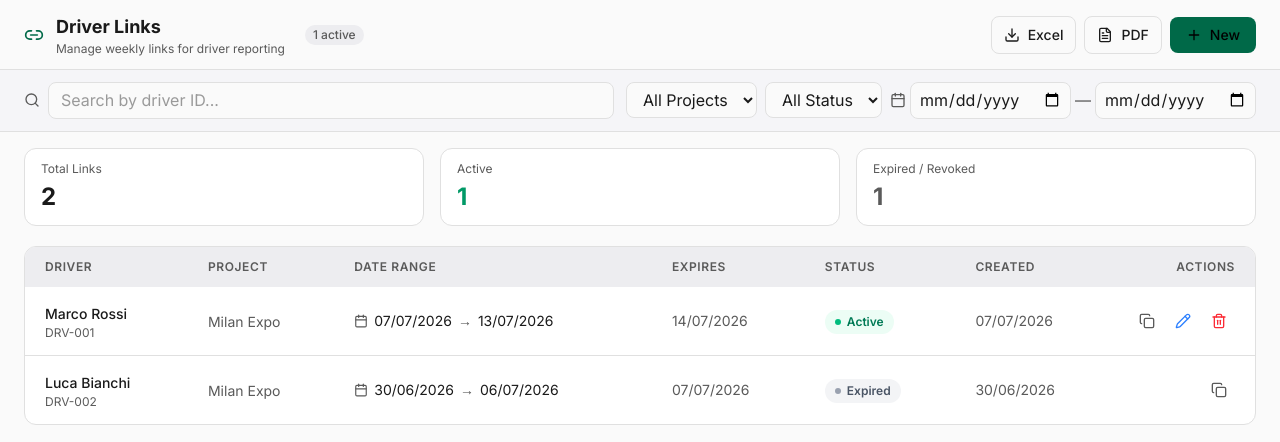
DriverLinksScreen › filters by status
Check: the text "DRV-001" is shown, box [45,325,94,340]
Select "Active" in the dropdown showing "All Status" at point(824, 100), box [765,82,882,118]
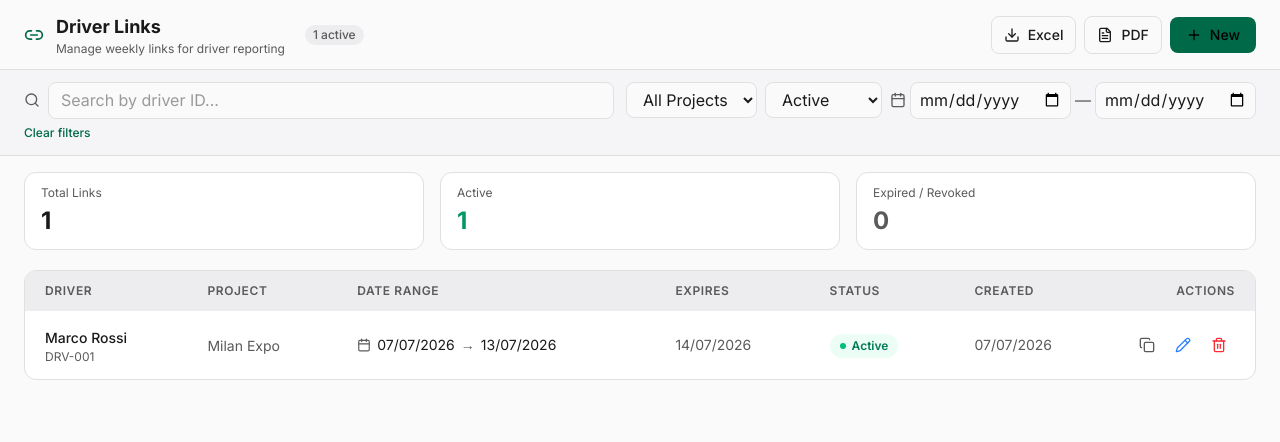
Check: the text "DRV-001" is shown, box [45,349,94,364]
Check: the text "DRV-002" is gone
